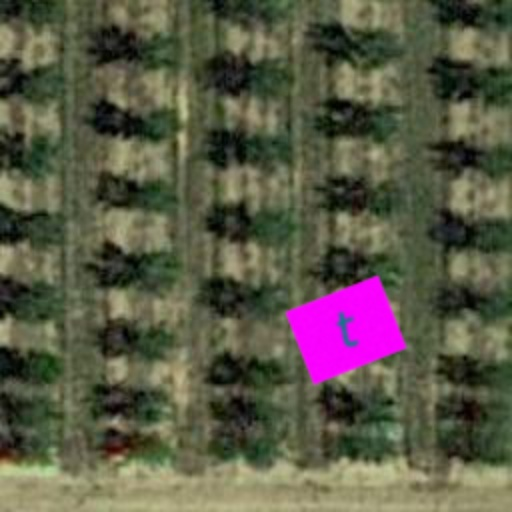rectangle: (280, 264, 412, 396)
